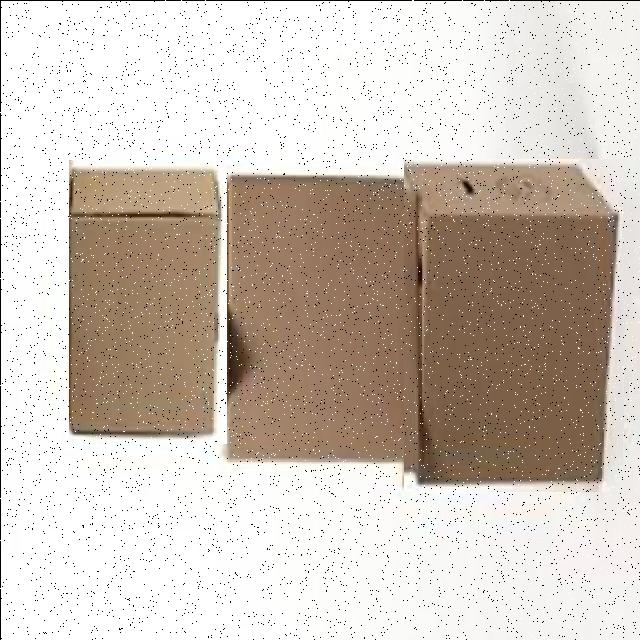normal: (403, 158, 622, 491), (215, 169, 417, 466), (68, 159, 226, 443)
